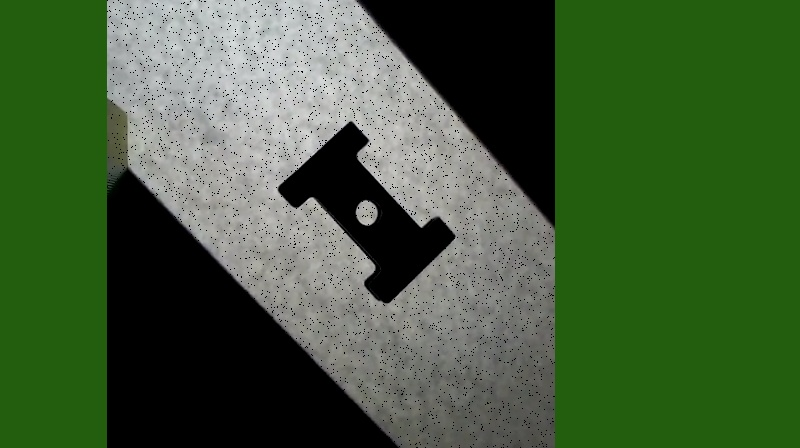O002: (276, 118, 457, 308)
